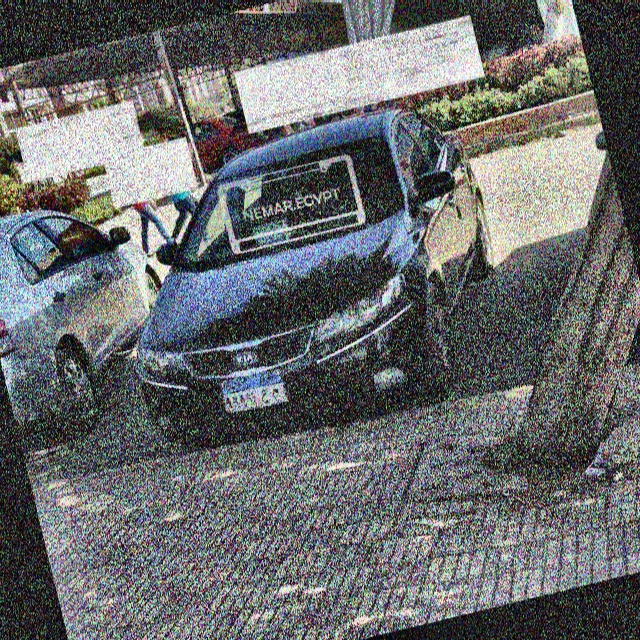License Plate: (213, 363, 293, 420)
